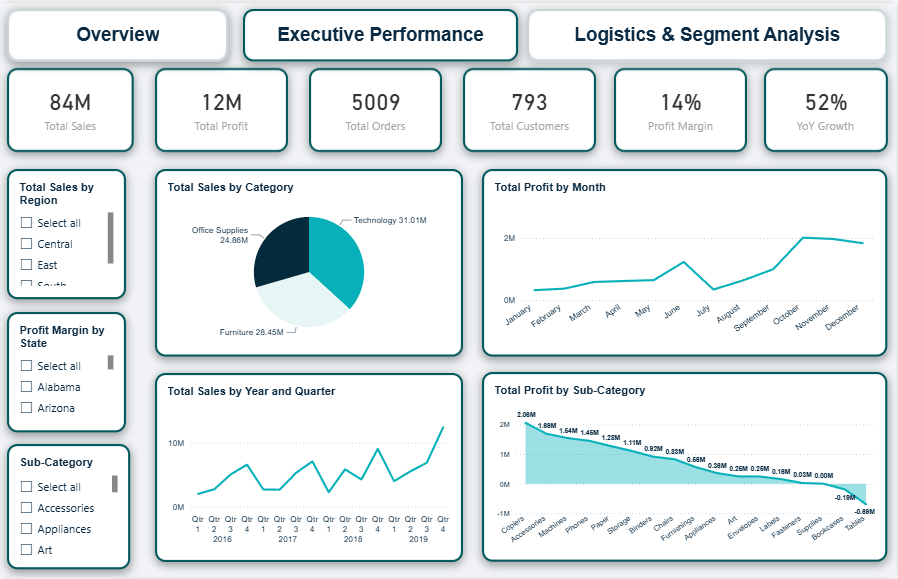

The dashboard page shown, as its layout file describes it:
{"tool":"powerbi","page":{"name":"Executive Performance ","canvas":[1280,820],"ordinal":1},"visuals":[{"type":"advanceCardE03760C5AB684758B56AA29F9E6C257B","fields":{"mainMeasure":["My Measures.Total Sales"]},"box":[10,93.2,181.1,120],"z":0},{"type":"advanceCardE03760C5AB684758B56AA29F9E6C257B","fields":{"mainMeasure":["My Measures.Total Profit"]},"box":[221,93.2,190,120],"z":1000},{"type":"advanceCardE03760C5AB684758B56AA29F9E6C257B","fields":{"mainMeasure":["My Measures.Profit Margin"]},"box":[876.6,93.2,190,120],"z":2000},{"type":"advanceCardE03760C5AB684758B56AA29F9E6C257B","fields":{"mainMeasure":["My Measures.YoY Growth"]},"box":[1091.1,93.2,176.7,120],"z":3000},{"type":"pieChart","fields":{"Category":["Dim Product.Category"],"Y":["My Measures.Total Sales"]},"box":[221.2,237.5,440,267.5],"z":4000},{"type":"stackedAreaChart","fields":{"Category":["Dim Product.Sub-Category"],"Y":["My Measures.Total Profit"]},"box":[688.8,527.6,578.9,271.1],"z":5000},{"type":"lineChart","fields":{"Category":["Dim Ship.Order Date.Variation.Date Hierarchy.Year","Dim Ship.Ship Date.Variation.Date Hierarchy.Quarter"],"Y":["My Measures.Total Sales"]},"box":[221.2,528.8,440,270],"z":6000},{"type":"lineChart","fields":{"Category":["Dim Ship.Ship Date.Variation.Date Hierarchy.Month"],"Y":["My Measures.Total Profit"]},"box":[688.8,237.6,578.9,267.8],"z":7000},{"type":"listSlicer","fields":{"Values":["Dim Location.Region"]},"box":[10,237.6,170,185.6],"z":8000},{"type":"listSlicer","fields":{"Values":["Dim Location.State"]},"box":[10,441,170,172.2],"z":9000},{"type":"advanceCardE03760C5AB684758B56AA29F9E6C257B","fields":{"mainMeasure":["My Measures.Total Orders"]},"box":[441,93.2,190,120],"z":10000},{"type":"advanceCardE03760C5AB684758B56AA29F9E6C257B","fields":{"mainMeasure":["My Measures.Total Customers"]},"box":[661,93.2,190,120],"z":11000},{"type":"actionButton","box":[752.5,8.8,515,75],"z":13000},{"type":"actionButton","box":[347.5,8.8,392.5,75],"z":14000},{"type":"actionButton","box":[10,8.8,316.2,75],"z":15000},{"type":"listSlicer","fields":{"Values":["Dim Product.Sub-Category"]},"box":[10,630,176.2,178.8],"z":15001}]}

Visuals, with their boxes in screenshot pixels (x1, y1, x2, y2), scaled from the page's 1280x820 canvas onto the 898x579 screenshot:
advanceCardE03760C5AB684758B56AA29F9E6C257B - My Measures.Total Sales: bbox=[7, 66, 134, 151]
advanceCardE03760C5AB684758B56AA29F9E6C257B - My Measures.Total Profit: bbox=[155, 66, 288, 151]
advanceCardE03760C5AB684758B56AA29F9E6C257B - My Measures.Profit Margin: bbox=[615, 66, 748, 151]
advanceCardE03760C5AB684758B56AA29F9E6C257B - My Measures.YoY Growth: bbox=[765, 66, 889, 151]
pieChart - Dim Product.Category x My Measures.Total Sales: bbox=[155, 168, 464, 357]
stackedAreaChart - Dim Product.Sub-Category x My Measures.Total Profit: bbox=[483, 373, 889, 564]
lineChart - Dim Ship.Order Date.Variation.Date Hierarchy.Year x Dim Ship.Ship Date.Variation.Date Hierarchy.Quarter: bbox=[155, 373, 464, 564]
lineChart - Dim Ship.Ship Date.Variation.Date Hierarchy.Month x My Measures.Total Profit: bbox=[483, 168, 889, 357]
listSlicer - Dim Location.Region: bbox=[7, 168, 126, 299]
listSlicer - Dim Location.State: bbox=[7, 311, 126, 433]
advanceCardE03760C5AB684758B56AA29F9E6C257B - My Measures.Total Orders: bbox=[309, 66, 443, 151]
advanceCardE03760C5AB684758B56AA29F9E6C257B - My Measures.Total Customers: bbox=[464, 66, 597, 151]
actionButton: bbox=[528, 6, 889, 59]
actionButton: bbox=[244, 6, 519, 59]
actionButton: bbox=[7, 6, 229, 59]
listSlicer - Dim Product.Sub-Category: bbox=[7, 445, 131, 571]
